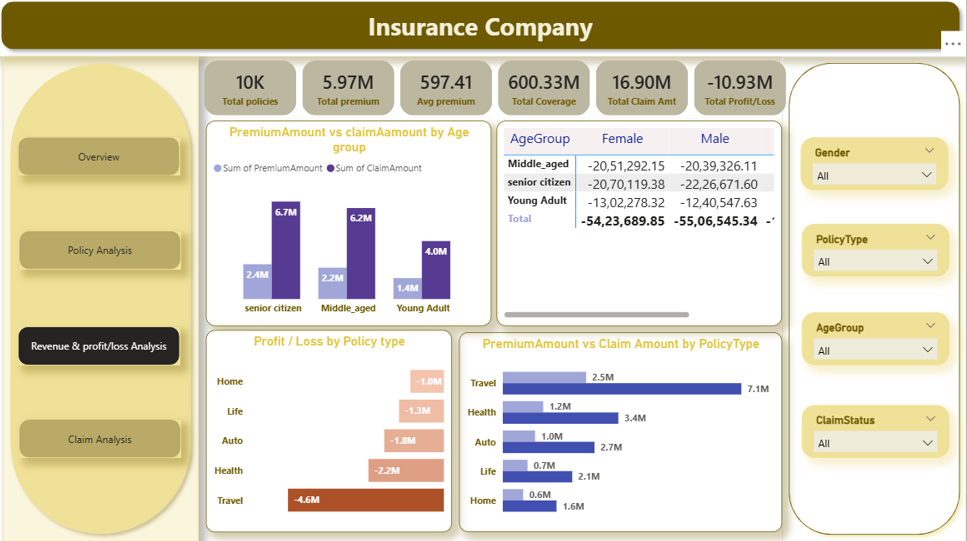

This screenshot's page, from the dashboard's own definition file:
{"tool":"powerbi","page":{"name":"Revenue & profit/loss  Analysis","canvas":[1280,720],"ordinal":2},"visuals":[{"type":"shape","title":"Insurance Company","box":[0,0,1280.3,81],"z":0},{"type":"shape","box":[0,0,1280.3,81],"z":1000},{"type":"shape","box":[11,81,258,639.5],"z":2000},{"type":"shape","box":[1037,80.7,243.3,639.5],"z":3000},{"type":"slicer","fields":{"Values":["insurance insurancedata.Gender"]},"box":[1062.6,188.3,194.4,69.7],"z":4000},{"type":"slicer","fields":{"Values":["insurance insurancedata.PolicyType"]},"box":[1063.9,302,194.4,69.7],"z":5000},{"type":"slicer","fields":{"Values":["insurance insurancedata.AgeGroup"]},"box":[1063.9,418.2,194.4,69.7],"z":6000},{"type":"slicer","fields":{"Values":["insurance insurancedata.ClaimStatus"]},"box":[1063.9,540.5,194.4,69.7],"z":7000},{"type":"cardVisual","fields":{"Data":["insurance insurancedata.Total policies","insurance insurancedata.total premium","insurance insurancedata.Avg premium per policy","insurance insurancedata.Total Coverage Amt","insurance insurancedata.Total Claim Amt","insurance insurancedata.Overall Profit/Loss"]},"box":[259.2,69.7,804.6,106.4],"z":8000},{"type":"pageNavigator","box":[31.8,188.3,212.8,50.1],"z":9000},{"type":"pageNavigator","box":[33,311.8,212.8,50.1],"z":10000},{"type":"pageNavigator","box":[31.8,437.8,212.8,50.1],"z":11000},{"type":"pageNavigator","box":[33,560.1,212.8,50.1],"z":12000},{"type":"clusteredBarChart","title":"PremiumAmount vs Claim Amount by PolicyType","fields":{"Category":["insurance insurancedata.PolicyType"],"Y":["Sum(insurance insurancedata.PremiumAmount)","Sum(insurance insurancedata.ClaimAmount)"]},"box":[612,444.6,425.4,263.5],"z":13000},{"type":"clusteredColumnChart","title":"PremiumAmount vs claimAamount by Age group","fields":{"Y":["Sum(insurance insurancedata.PremiumAmount)","Sum(insurance insurancedata.ClaimAmount)"],"Category":["insurance insurancedata.AgeGroup"]},"box":[278.6,166,376,270.3],"z":14000},{"type":"barChart","title":"Profit / Loss by Policy type","fields":{"Category":["insurance insurancedata.PolicyType"],"Y":["Sum(insurance insurancedata.profit_or_loss)"]},"box":[278.6,441.9,323.8,266.2],"z":15000},{"type":"pivotTable","fields":{"Rows":["insurance insurancedata.AgeGroup"],"Values":["Sum(insurance insurancedata.profit_or_loss)"],"Columns":["insurance insurancedata.Gender"]},"box":[661.4,166,376,270.3],"z":16000}]}

Visuals, with their boxes in screenshot pixels (x1, y1, x2, y2), scaled from the page's 1280x720 canvas onto the 967x541 screenshot:
"Insurance Company" shape: <bbox>0, 0, 966, 61</bbox>
shape: <bbox>0, 0, 966, 61</bbox>
shape: <bbox>8, 61, 203, 540</bbox>
shape: <bbox>783, 61, 966, 540</bbox>
slicer - insurance insurancedata.Gender: <bbox>803, 141, 950, 194</bbox>
slicer - insurance insurancedata.PolicyType: <bbox>804, 227, 951, 279</bbox>
slicer - insurance insurancedata.AgeGroup: <bbox>804, 314, 951, 367</bbox>
slicer - insurance insurancedata.ClaimStatus: <bbox>804, 406, 951, 458</bbox>
cardVisual - insurance insurancedata.Total policies x insurance insurancedata.total premium: <bbox>196, 52, 804, 132</bbox>
pageNavigator: <bbox>24, 141, 185, 179</bbox>
pageNavigator: <bbox>25, 234, 186, 272</bbox>
pageNavigator: <bbox>24, 329, 185, 367</bbox>
pageNavigator: <bbox>25, 421, 186, 458</bbox>
"PremiumAmount vs Claim Amount by PolicyType" clusteredBarChart: <bbox>462, 334, 784, 532</bbox>
"PremiumAmount vs claimAamount by Age group" clusteredColumnChart: <bbox>210, 125, 495, 328</bbox>
"Profit / Loss by Policy type" barChart: <bbox>210, 332, 455, 532</bbox>
pivotTable - insurance insurancedata.AgeGroup x Sum(insurance insurancedata.profit_or_loss): <bbox>500, 125, 784, 328</bbox>
